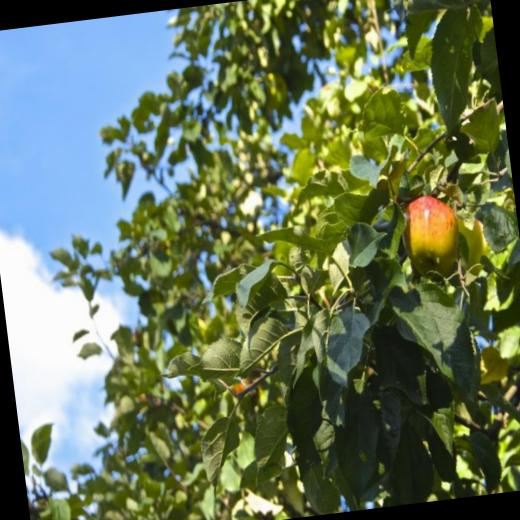Apple: (396, 192, 464, 280)
